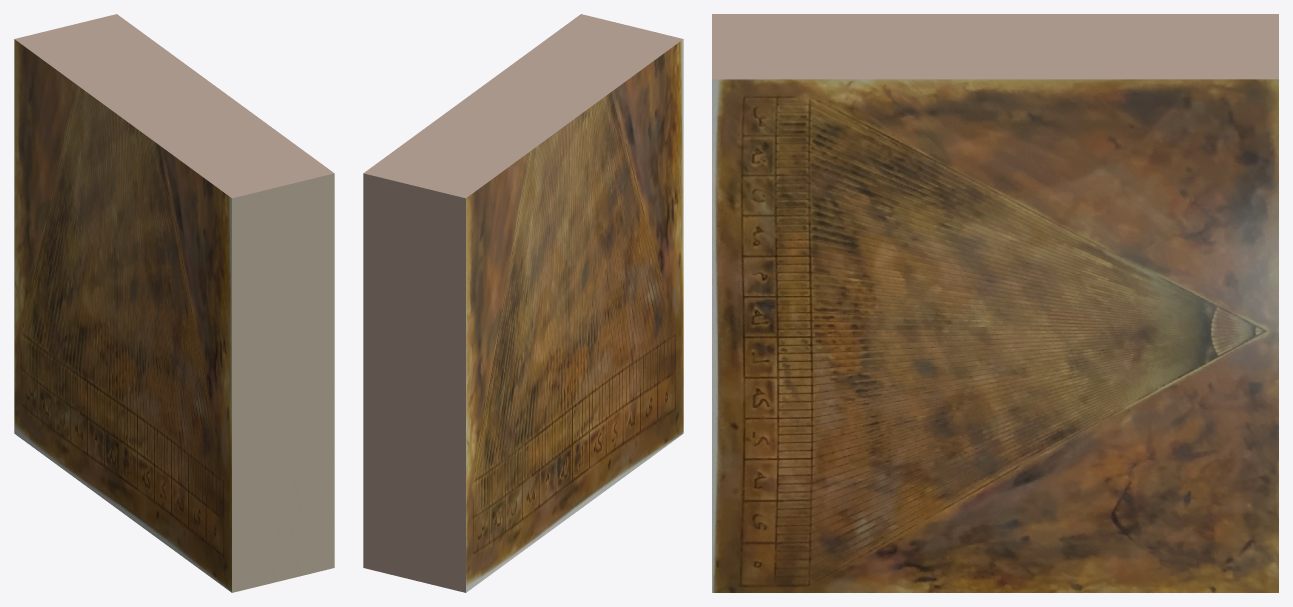
File: ucgen2.glb
The picture shows the model from 3 angles, left to right: view 1: azimuth 30°, elevation 25°; view 2: azimuth 150°, elevation 25°; view 3: azimuth 270°, elevation 25°; orthographic projection. The views are drawn at different scales.
Visible parts, largest first — view 1: Cube; view 2: Cube; view 3: Cube.
Part boxes in pixels (<box>): Cube: <box>14,14,334,592</box>; Cube: <box>363,14,683,592</box>; Cube: <box>712,14,1278,592</box>.
Bounding box in the file's own units: 0.0389 × 0.1431 × 0.1431.
Materials: 3 (1 with a texture image).
